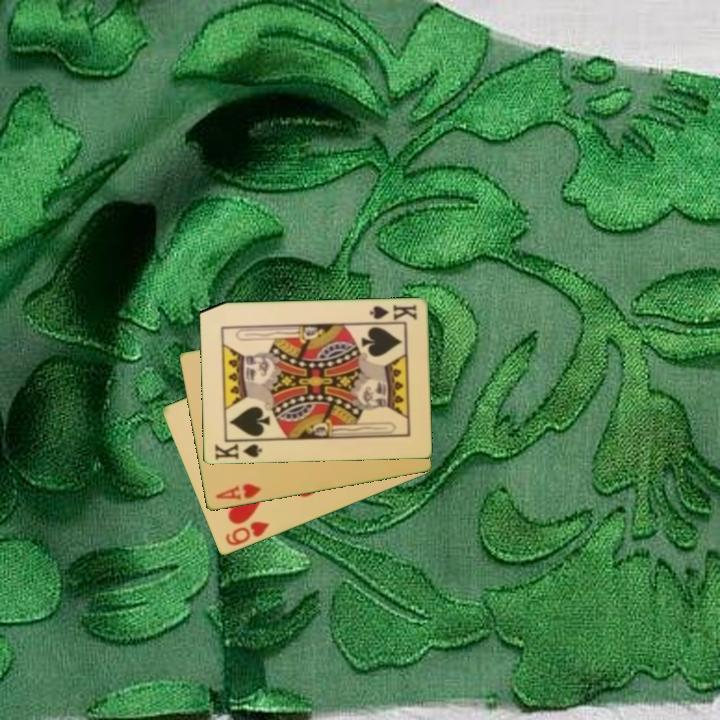6h: (222, 518, 272, 549)
Ah: (212, 480, 264, 503)
Ks: (366, 301, 420, 323), (211, 441, 264, 463)
